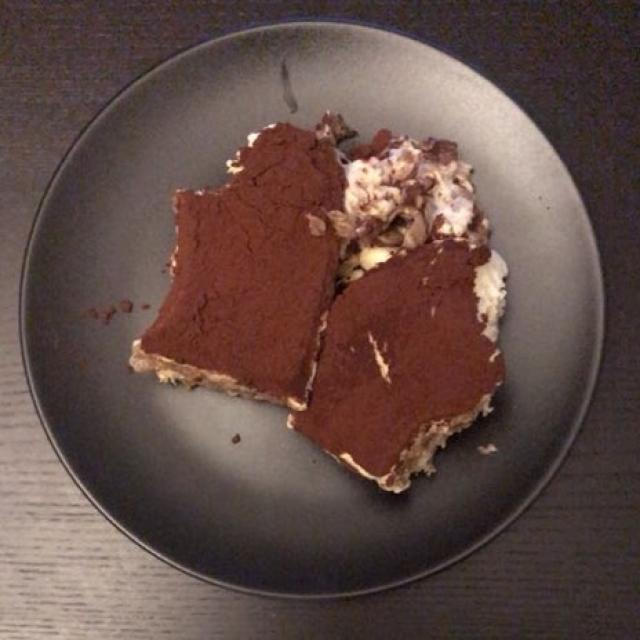tiramisu: (139, 122, 496, 486)
